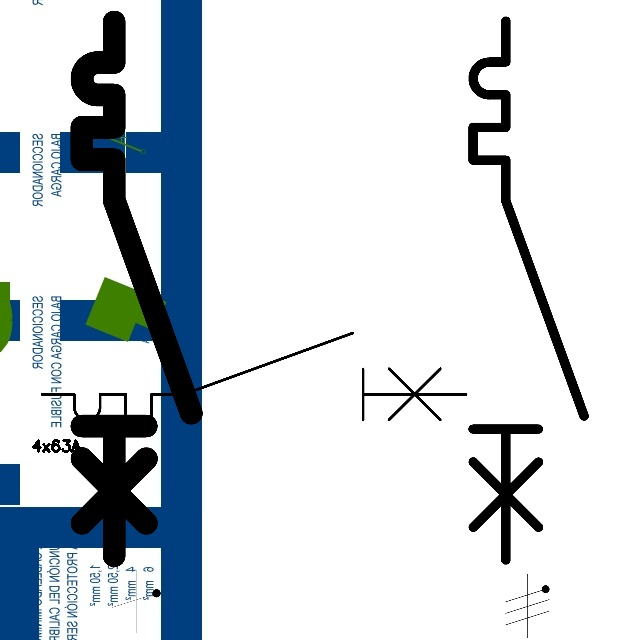interruptor_termomagnetico: (459, 7, 598, 574), (68, 8, 205, 570), (31, 322, 477, 431)
